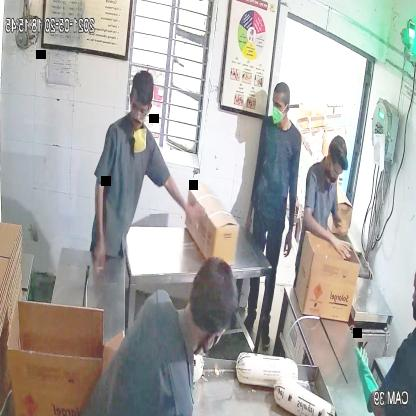goggles: (128, 93, 154, 122), (327, 159, 344, 183)
